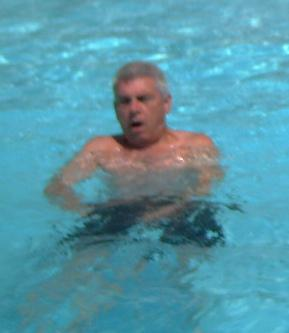swimmer: (44, 63, 220, 254)
